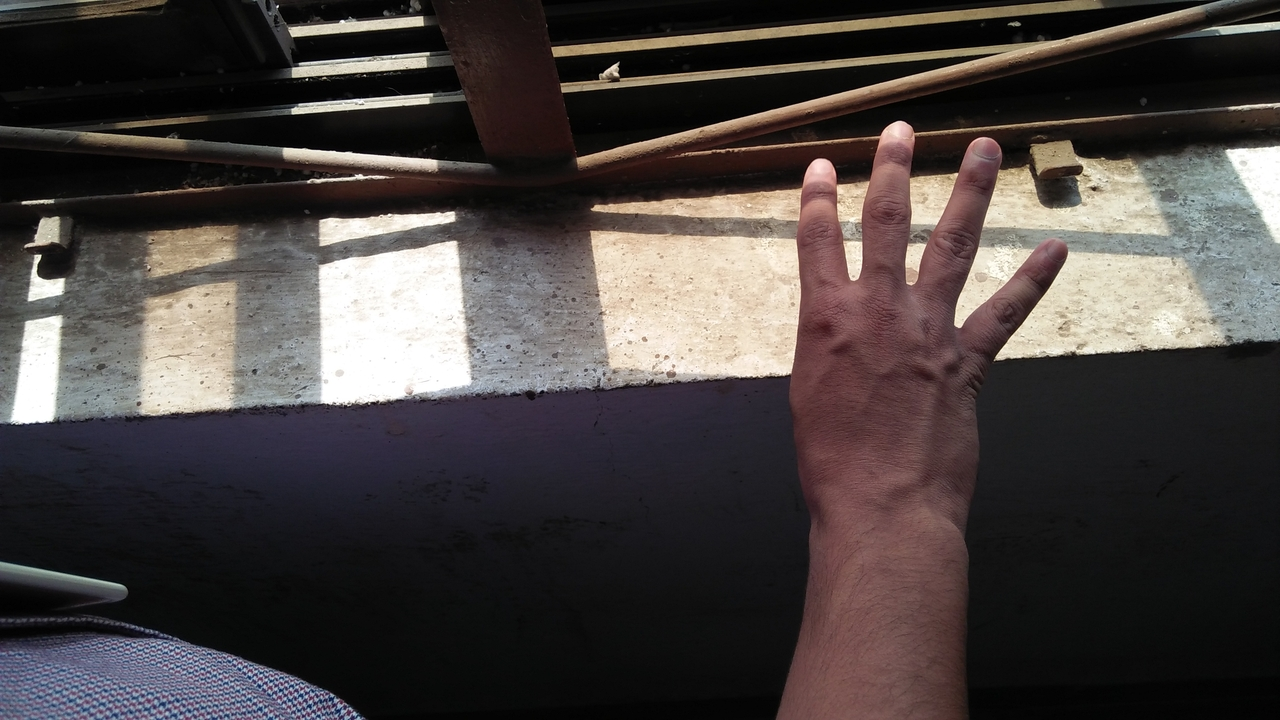fingertip: (958, 130, 1010, 176), (1026, 228, 1076, 274), (874, 114, 926, 158), (796, 148, 846, 192)
